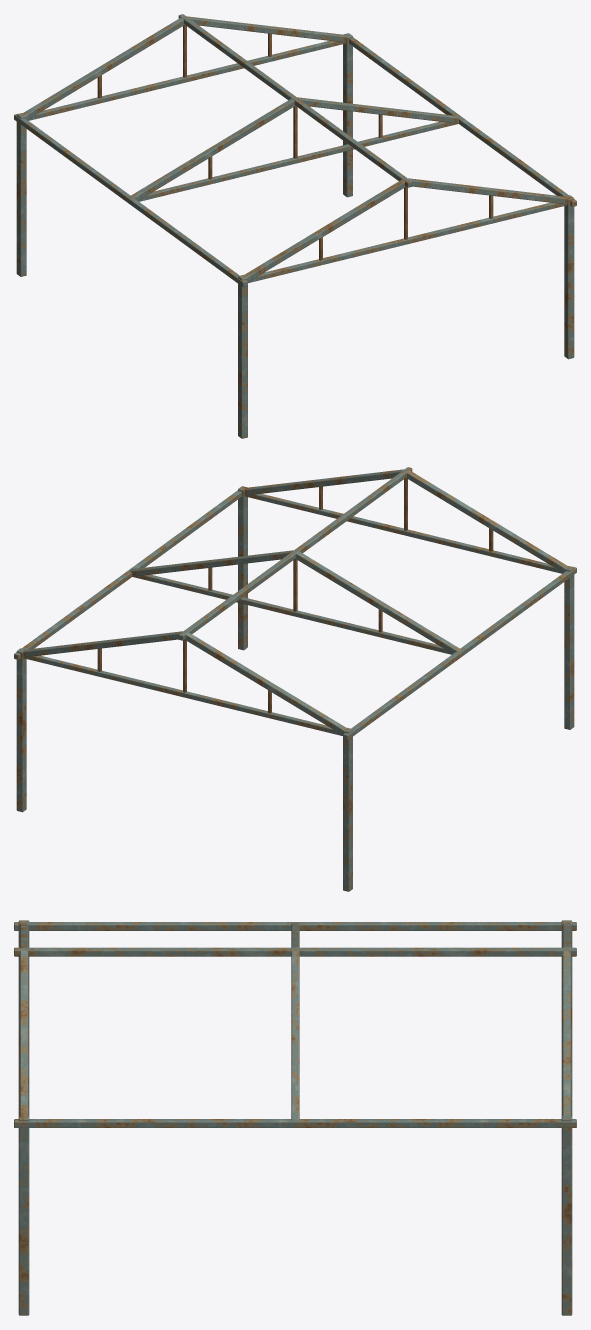
File: Boat_Shed_Frame.glb
3 views of the same model, one above another, from view 1: azimuth 30°, elevation 25°; view 2: azimuth 150°, elevation 25°; view 3: azimuth 270°, elevation 25° (orthographic). The views are drawn at different scales.
Parts seen in each view (by area): view 1: Boat_Shed_Frame; view 2: Boat_Shed_Frame; view 3: Boat_Shed_Frame.
Boxes of the visible parts, x1,y1,x2,y2 form: Boat_Shed_Frame: [14, 14, 576, 438]; Boat_Shed_Frame: [14, 467, 576, 891]; Boat_Shed_Frame: [14, 920, 576, 1315].
Size of the model in its own units: 11.78 by 7.34 by 14.
Materials: 2 (2 with a texture image).
